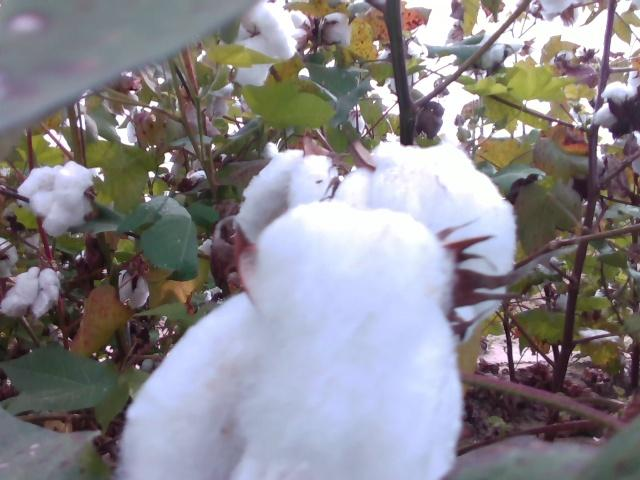cotton_ready: (117, 199, 461, 480), (331, 142, 517, 342), (240, 149, 339, 246), (491, 162, 548, 283), (15, 162, 100, 236), (229, 5, 297, 87), (0, 268, 61, 319), (595, 78, 640, 134), (476, 35, 528, 69), (170, 112, 216, 149), (316, 11, 352, 49), (120, 271, 149, 310), (536, 0, 580, 22), (288, 10, 309, 50)
